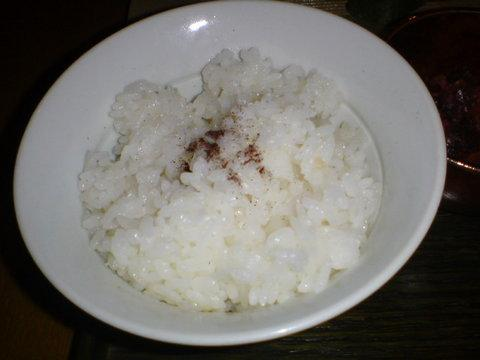rice: (80, 49, 381, 311)
